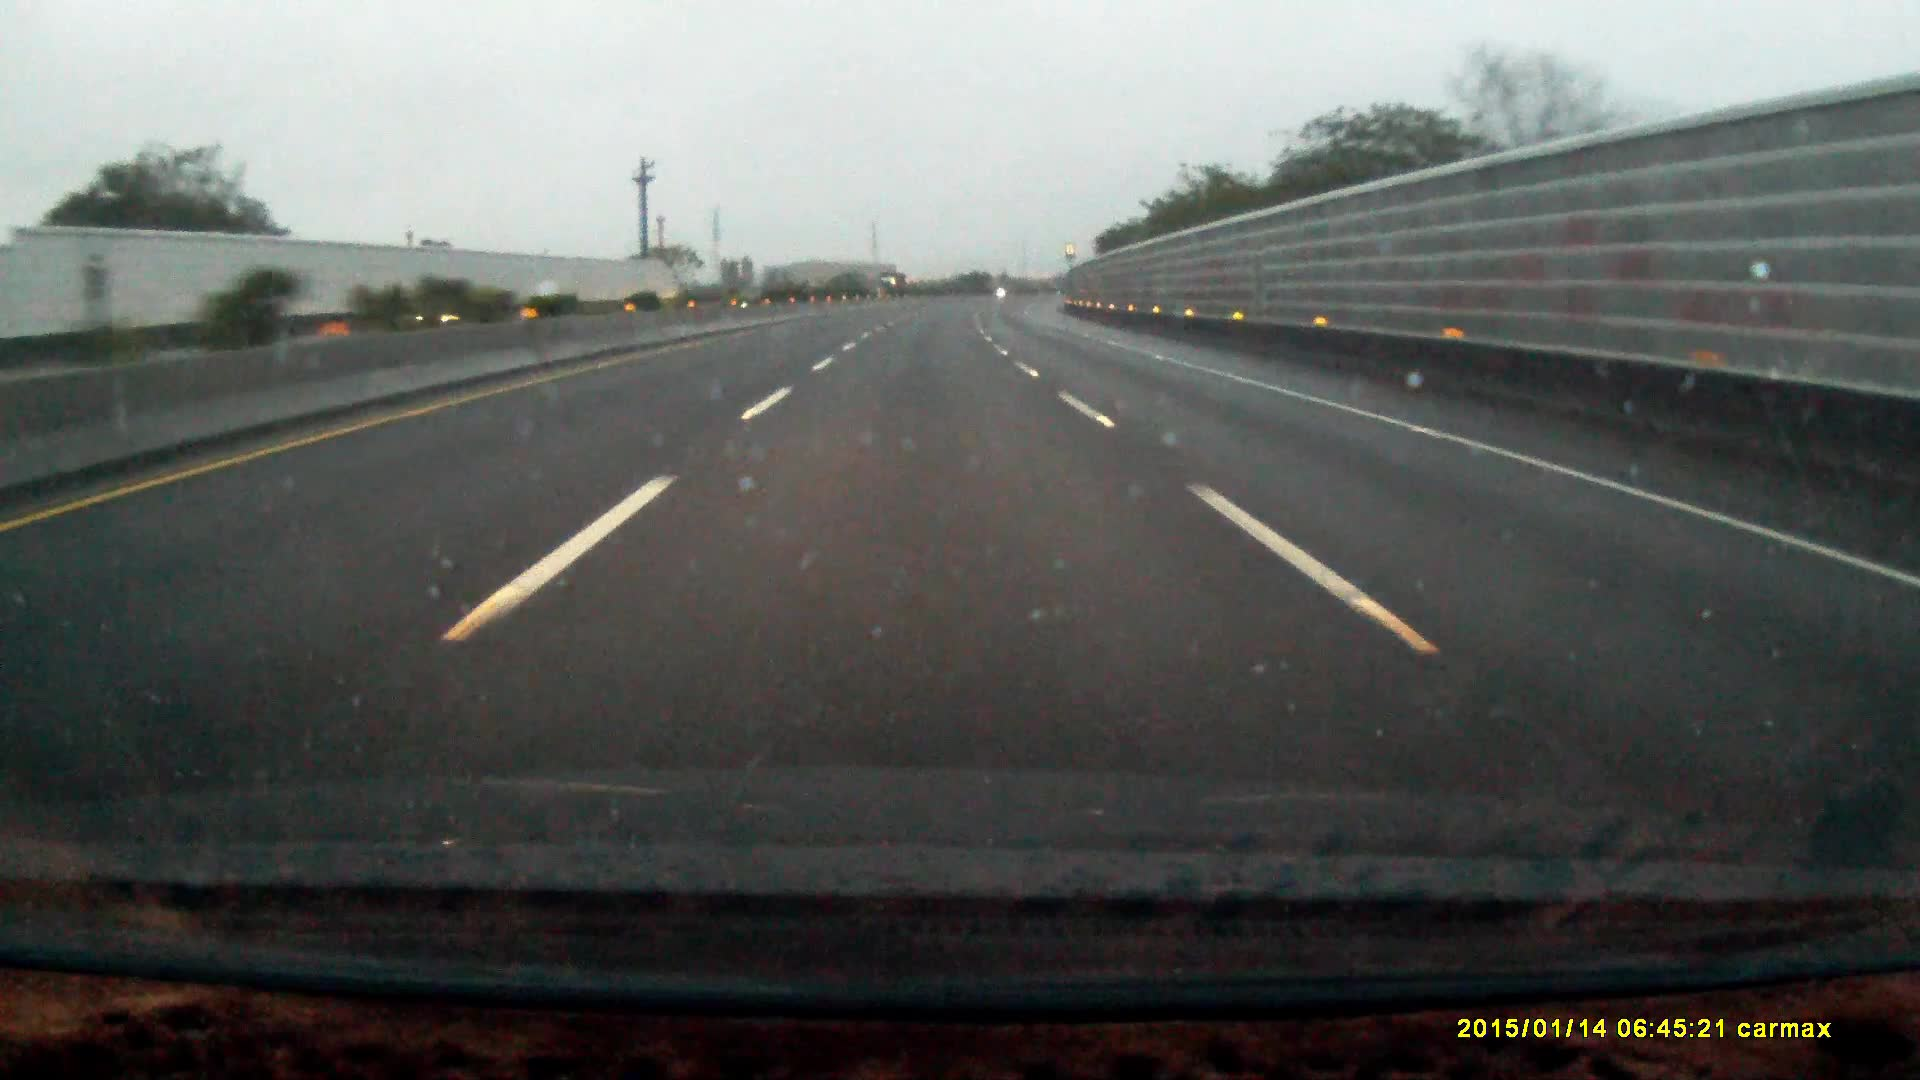vehicle: (880, 274, 909, 299)
